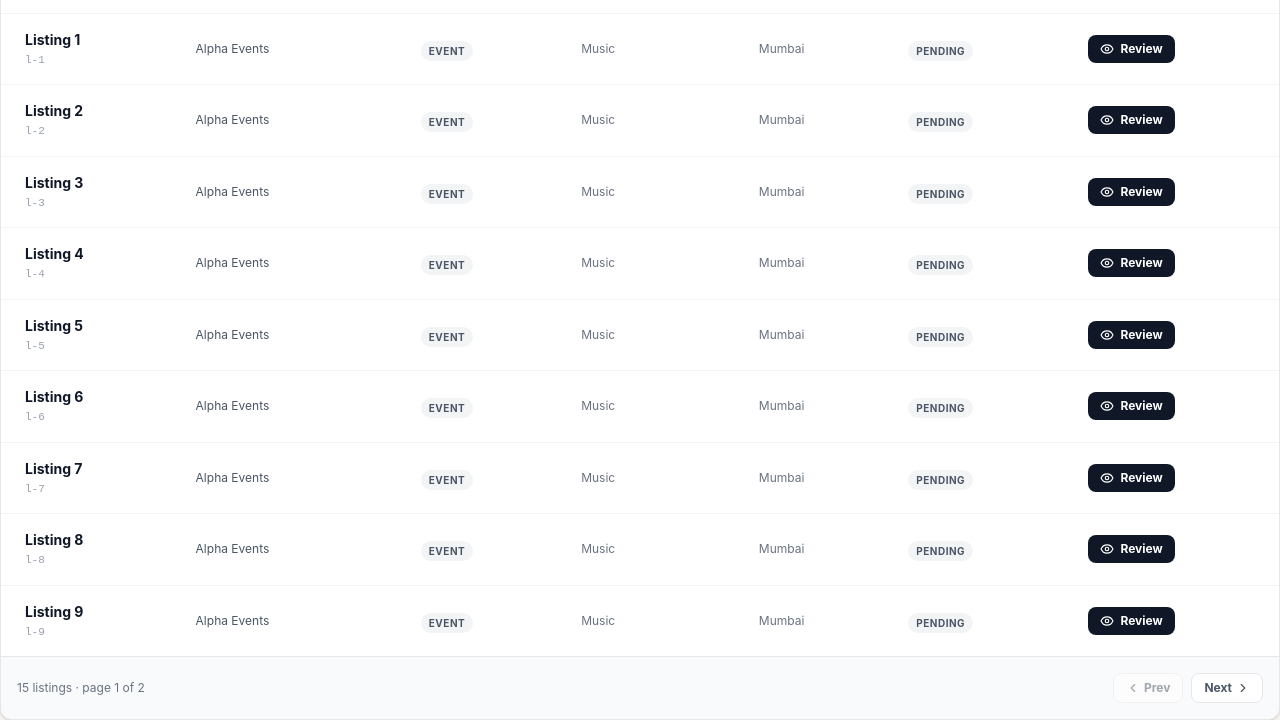
it: Listings Approval › paginates the table 10 rows per page and pages with Prev/Next
(page scrolled)
Expected: the text "Listing 9" is shown, 25,602 -> 84,622
Expected: the text "Listing 10" is not shown
Click the button "Next" at coordinates (1227, 688), box 1191,673 -> 1263,703
(page scrolled)
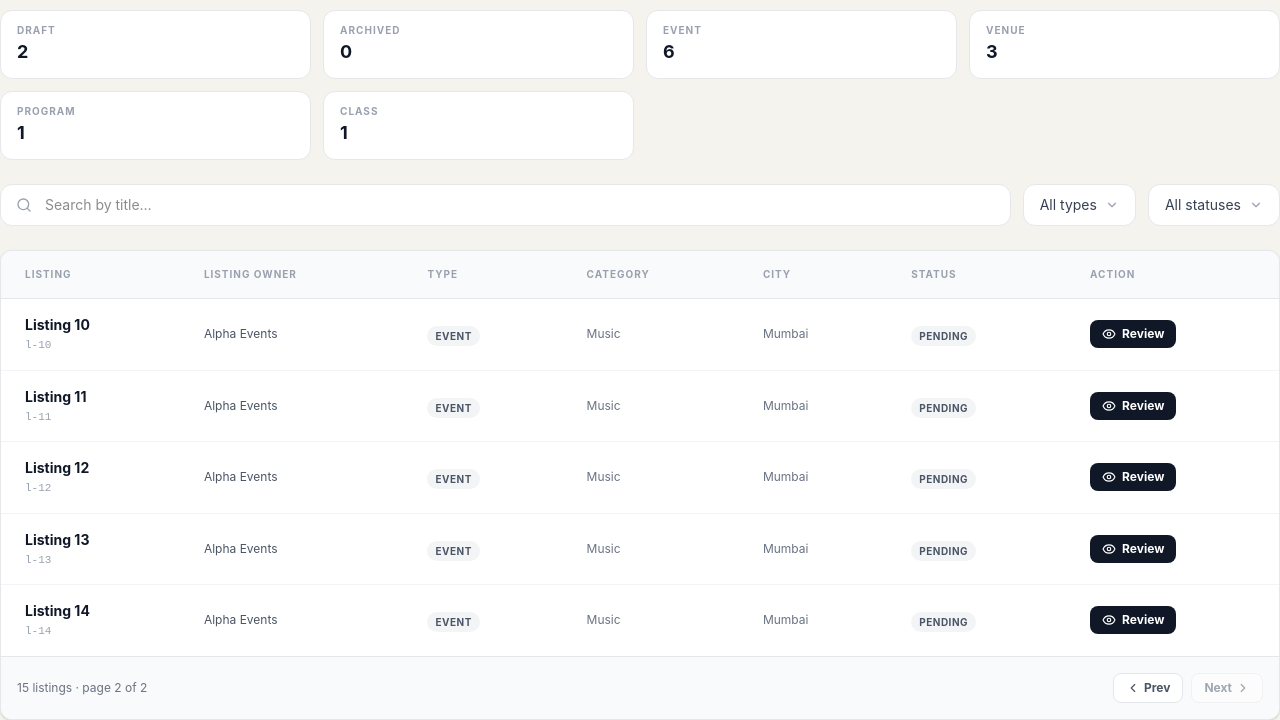
Now the text "Listing 10" is shown, box 25,315 -> 90,335
Now the text "15 listings · page 2 of 2" is shown, box 17,680 -> 147,696
Now the button "Next" is disabled, box 1191,672 -> 1263,702
Click the button "Prev" at coordinates (1148, 688), box 1113,672 -> 1183,702
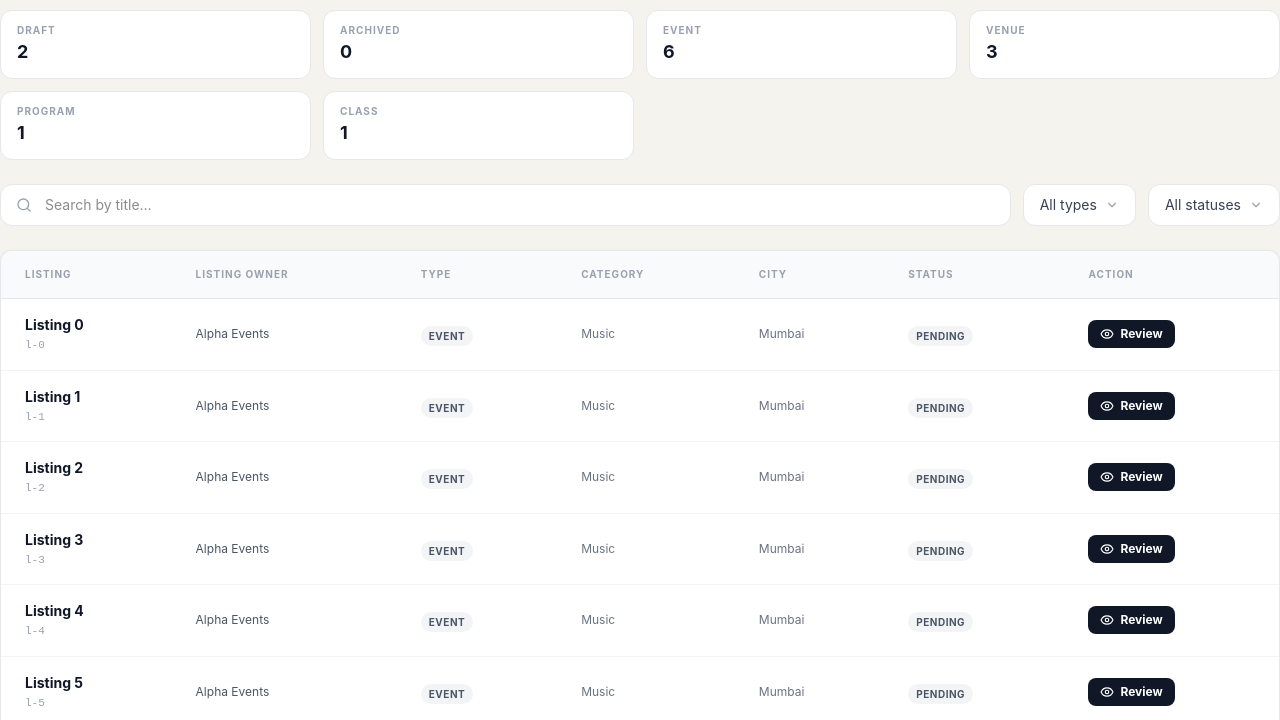
Now the text "Listing 0" is shown, box 25,315 -> 84,335
